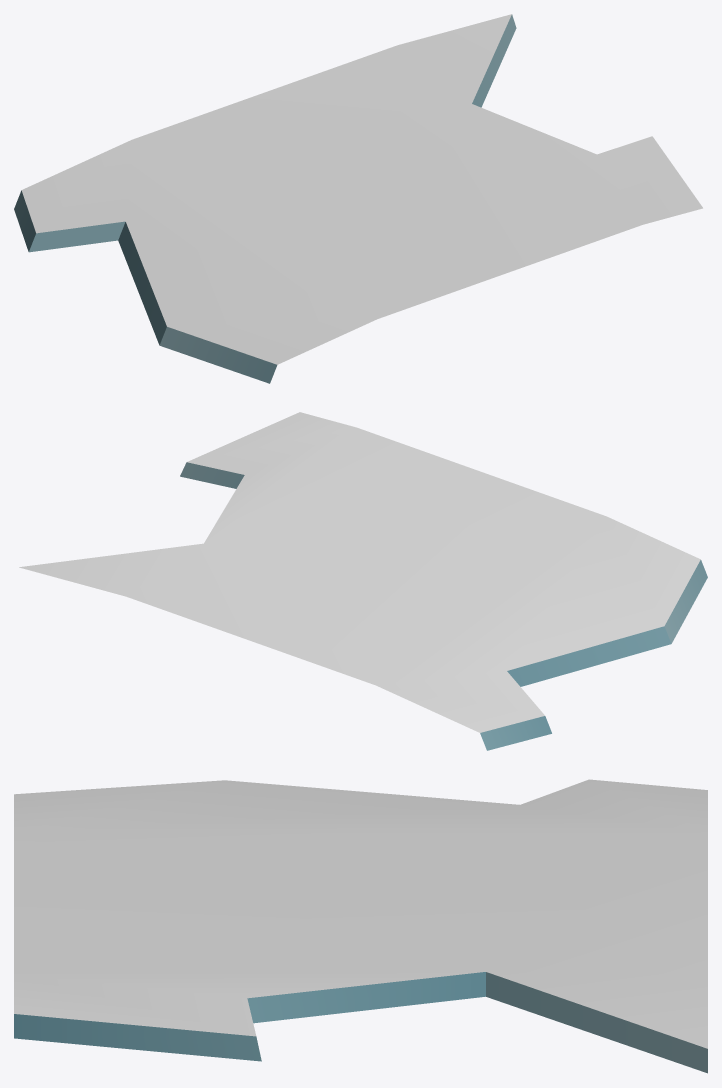
The model's file is icePiece_01.glb.
3 views of the same model, one above another, from view 1: azimuth 30°, elevation 25°; view 2: azimuth 150°, elevation 25°; view 3: azimuth 270°, elevation 25° (orthographic). The views are drawn at different scales.
Visible parts, largest first — view 1: icePiece_01; view 2: icePiece_01; view 3: icePiece_01.
Boxes of the visible parts, <box> form: icePiece_01: <box>14,14,702,383</box>; icePiece_01: <box>19,412,707,750</box>; icePiece_01: <box>14,779,707,1073</box>.
Size of the model in its own units: 3.39 by 0.4847 by 2.72.
